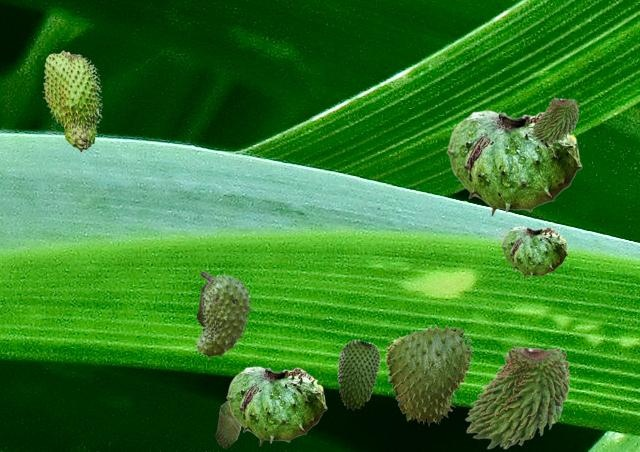guyabano: (446, 110, 581, 216), (464, 342, 570, 448), (385, 324, 474, 425), (226, 366, 326, 445), (42, 50, 102, 151), (194, 271, 254, 359), (501, 226, 567, 278), (337, 339, 379, 409), (531, 96, 578, 143), (215, 401, 241, 447), (196, 281, 208, 326)
